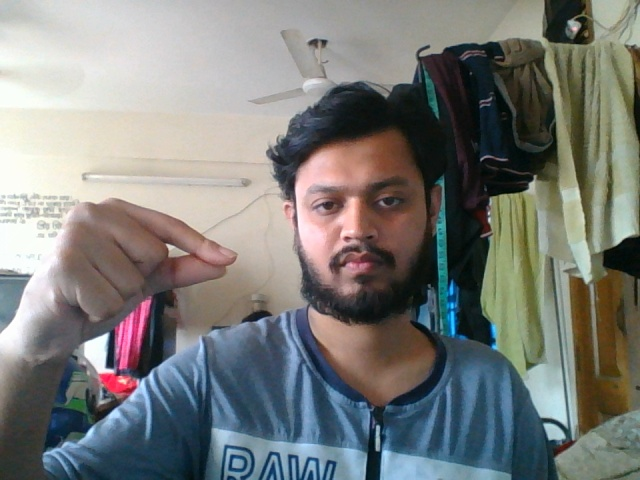onushhar: (1, 197, 255, 356)
